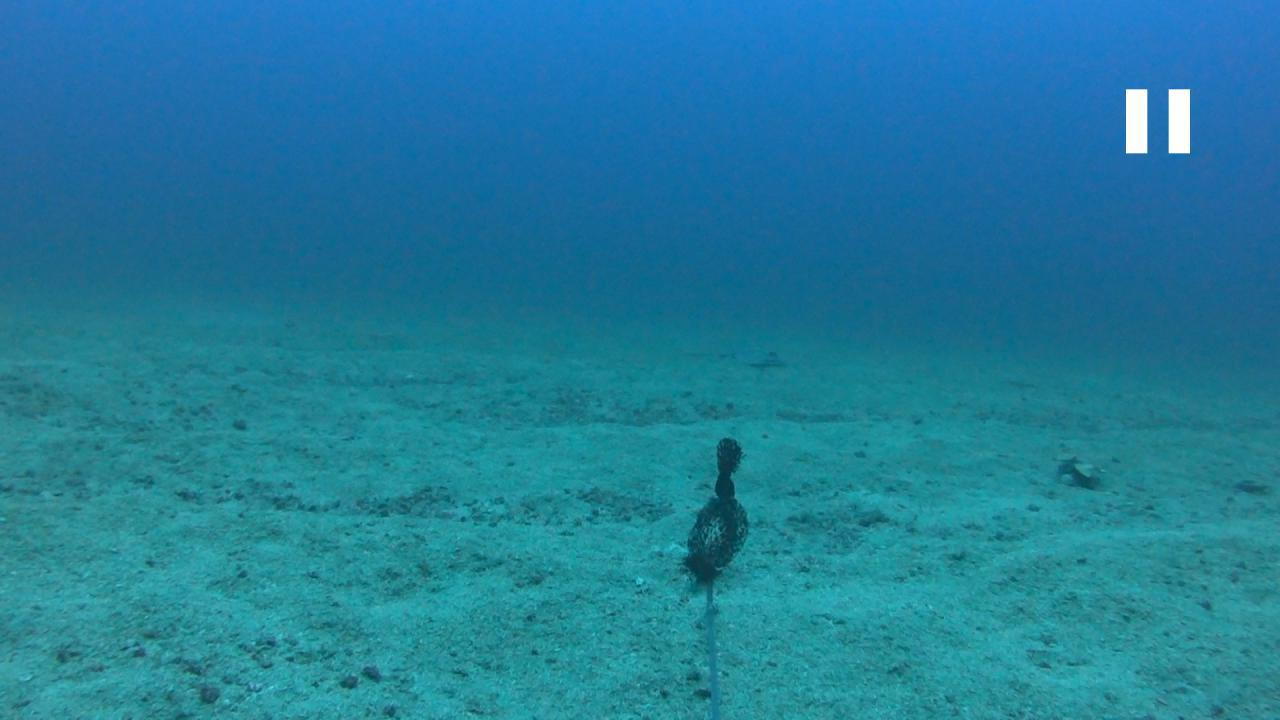dasyatis: (684, 346, 786, 368)
